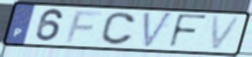6: (35, 8, 65, 43)
C: (98, 11, 138, 46)
F: (167, 13, 210, 50), (63, 10, 106, 44)
V: (210, 14, 245, 52), (142, 11, 175, 50)
